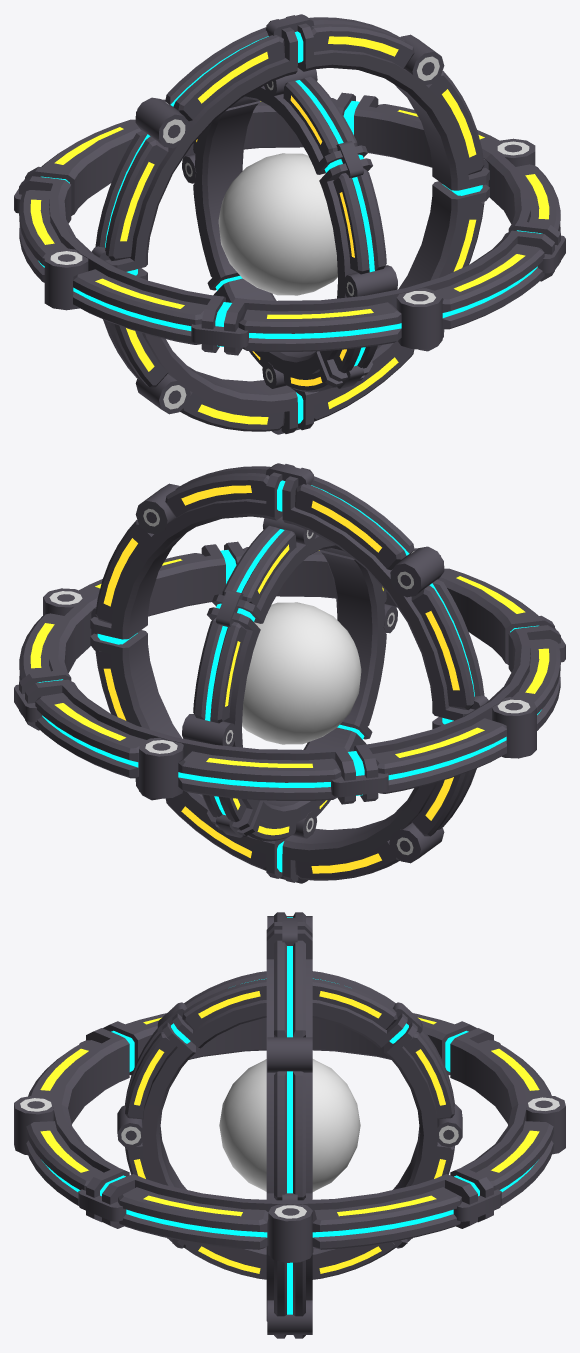
File: Throne.fbx
3 views of the same model, one above another, from view 1: azimuth 30°, elevation 25°; view 2: azimuth 150°, elevation 25°; view 3: azimuth 270°, elevation 25° (orthographic).
Parts seen in each view (by area): view 1: Circle.184, Circle.186, Circle.187, Icosphere.008; view 2: Circle.184, Circle.186, Circle.187, Icosphere.008; view 3: Circle.184, Circle.187, Circle.186, Icosphere.008.
Part boxes in pixels (bbox=[...]): Circle.184: bbox=[14, 92, 565, 355]; Circle.186: bbox=[91, 14, 489, 434]; Circle.187: bbox=[182, 68, 397, 392]; Icosphere.008: bbox=[218, 153, 337, 295]; Circle.184: bbox=[14, 541, 565, 804]; Circle.186: bbox=[90, 463, 488, 883]; Circle.187: bbox=[182, 516, 397, 841]; Icosphere.008: bbox=[242, 602, 361, 744]; Circle.184: bbox=[14, 1013, 565, 1262]; Circle.187: bbox=[117, 971, 462, 1279]; Circle.186: bbox=[266, 912, 312, 1338]; Icosphere.008: bbox=[219, 1059, 360, 1191].
Size of the model in its own units: 290 by 233 by 290.
